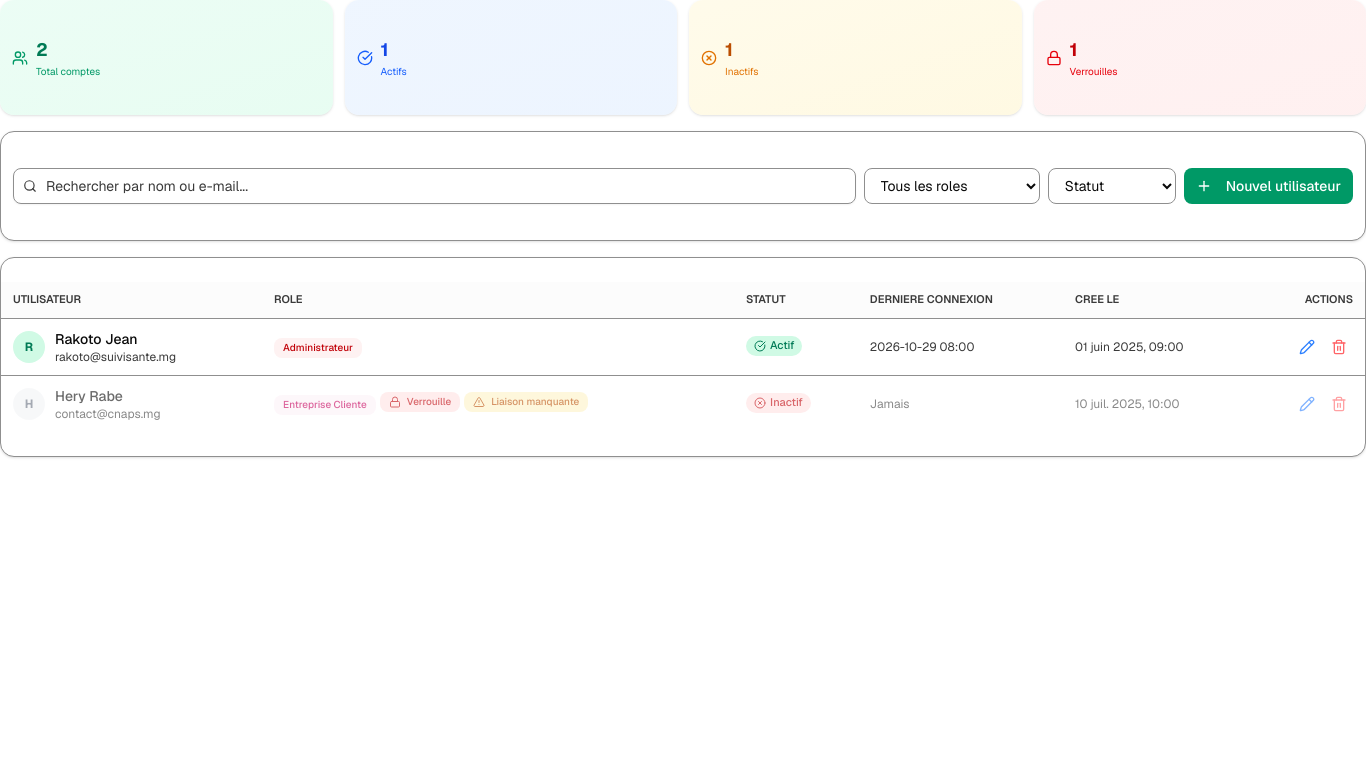
Utilisateurs — création et édition › ouvre le formulaire de création avec mot de passe obligatoire (min 8)
Expected: the text "Rakoto Jean" is shown, x1=55 y1=330 x2=138 y2=348
Click the button "Nouvel utilisateur" at coordinates (1268, 186), box x1=1184 y1=168 x2=1353 y2=204
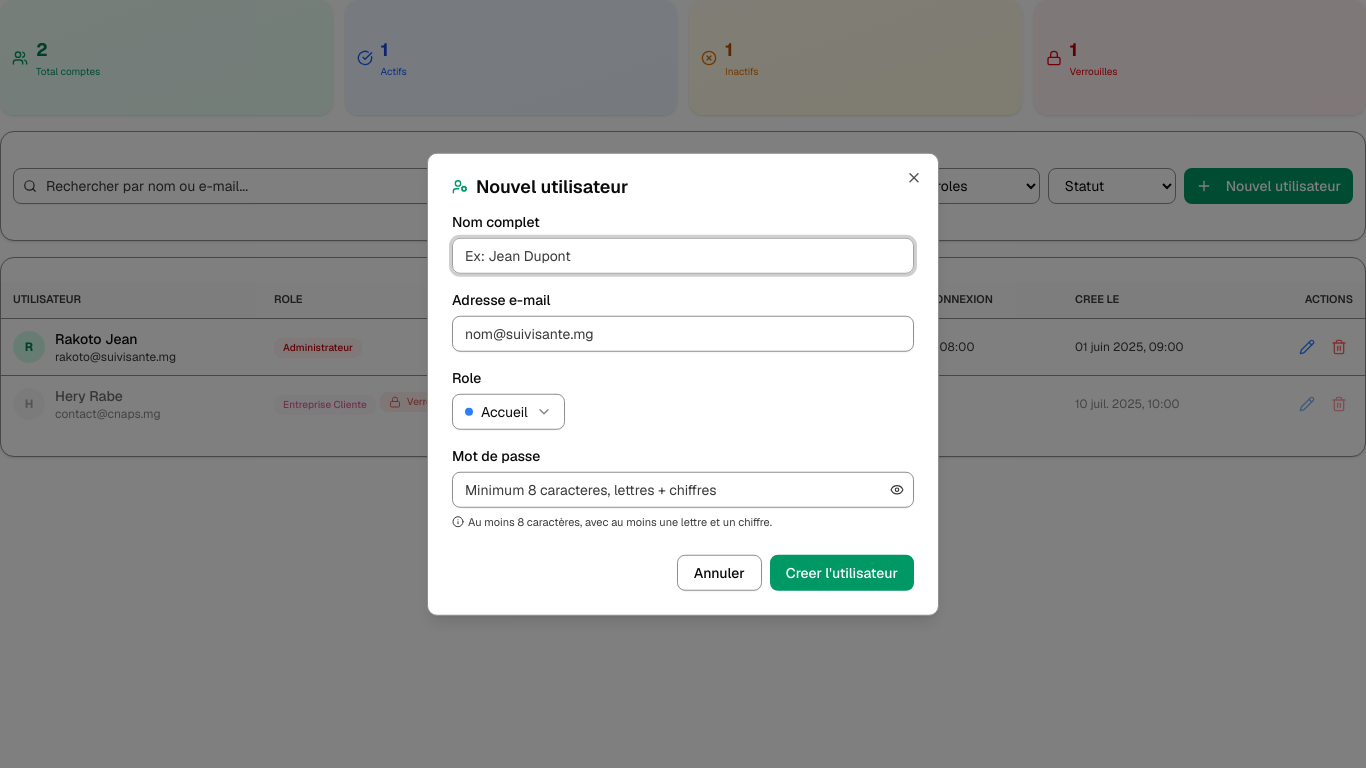
Now the heading "Nouvel utilisateur" is shown, box x1=452 y1=175 x2=628 y2=198
Now the field labelled "Nom complet" is empty, box x1=452 y1=238 x2=914 y2=274
